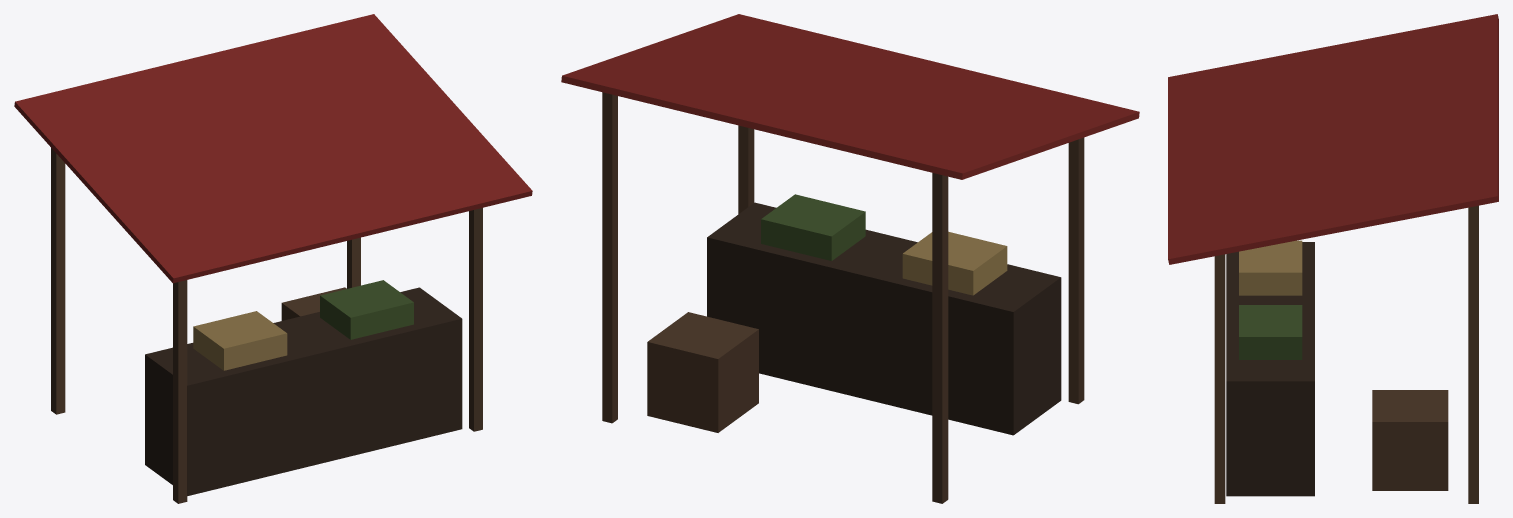
The model's file is market_stall.glb.
3 renders of one model, left to right at view 1: azimuth 30°, elevation 25°; view 2: azimuth 150°, elevation 25°; view 3: azimuth 270°, elevation 25°, orthographic. The views are drawn at different scales.
Parts seen in each view (by area): view 1: market_stall; view 2: market_stall; view 3: market_stall.
Part boxes in pixels (left/top/right/bottom): market_stall: left=14, top=14, right=532, bottom=503; market_stall: left=561, top=14, right=1139, bottom=503; market_stall: left=1168, top=14, right=1498, bottom=503.
Bounding box in the file's own units: 3.4 × 2.8 × 2.61.
Materials: 1 (1 with a texture image).
